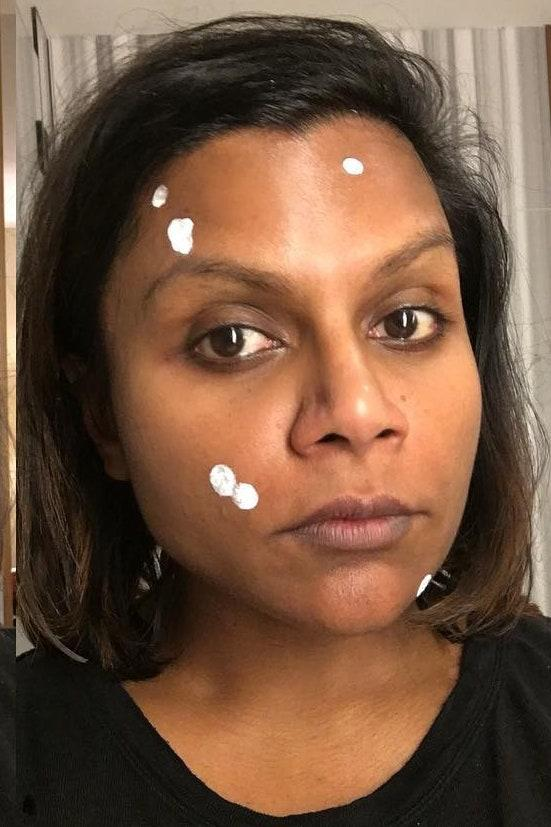Oily-Skin: (259, 180, 331, 272)
